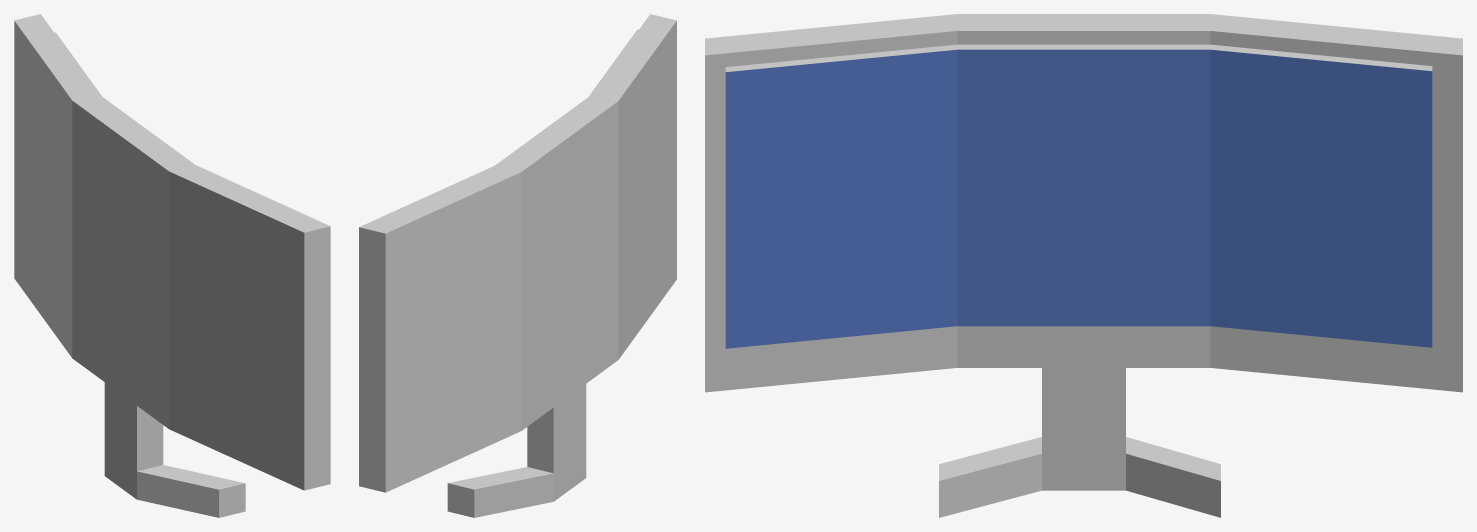
The model's file is computer-screen.fbx.
3 renders of one model, left to right at view 1: azimuth 30°, elevation 25°; view 2: azimuth 150°, elevation 25°; view 3: azimuth 270°, elevation 25°, orthographic. The views are drawn at different scales.
Visible parts, largest first — view 1: computer-screen; view 2: computer-screen; view 3: computer-screen.
Boxes of the visible parts, left/top/right/bottom form: computer-screen: left=14, top=14, right=330, bottom=517; computer-screen: left=359, top=14, right=676, bottom=517; computer-screen: left=705, top=14, right=1462, bottom=517.
Size of the model in its own units: 56.63 by 273 by 408.
